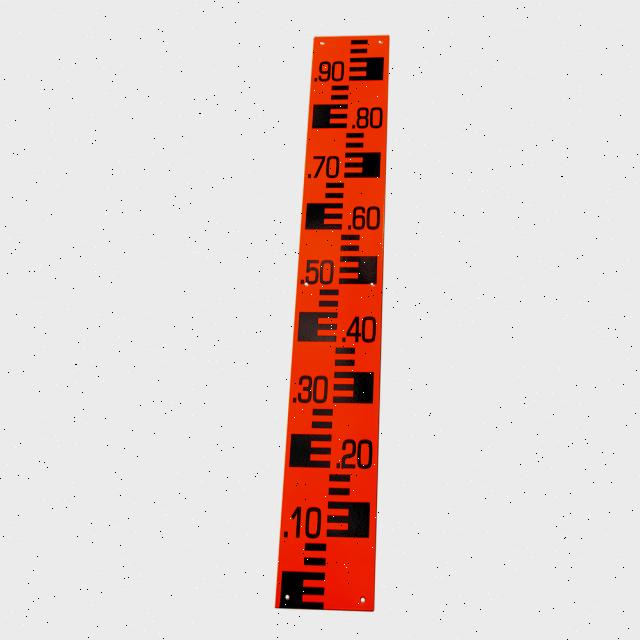80: (311, 154, 341, 180), (356, 107, 383, 129)
90: (319, 60, 345, 81)
staff: (275, 37, 391, 612)
